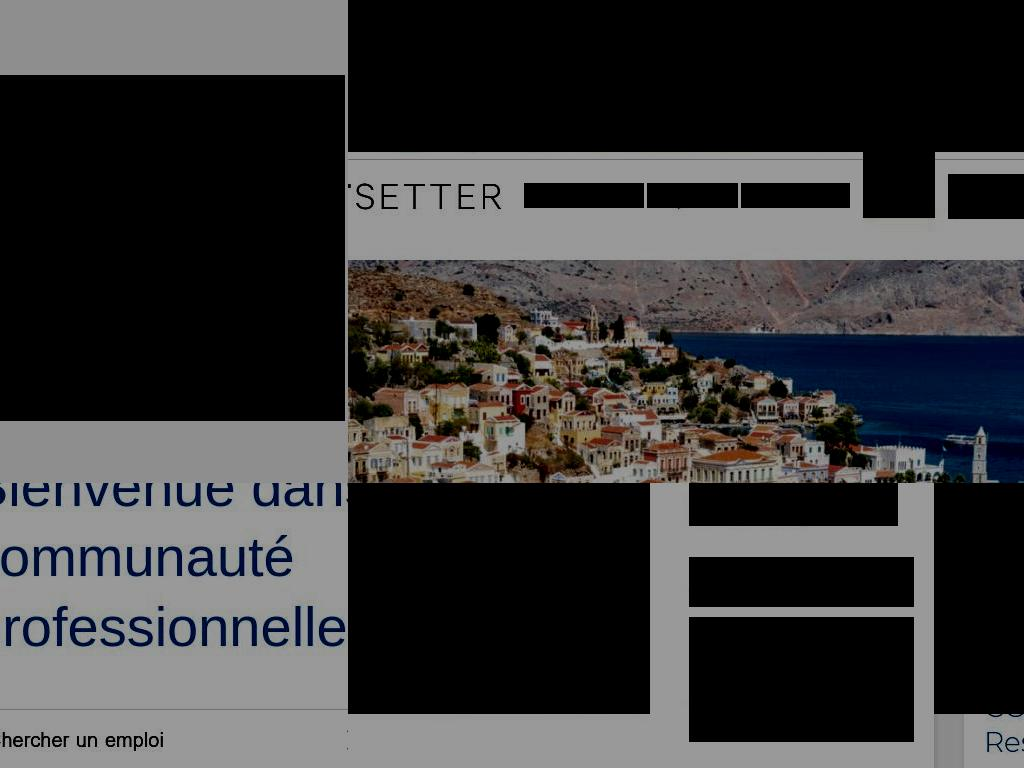button: (0, 710, 348, 768), (348, 169, 501, 224), (863, 146, 935, 218), (524, 183, 644, 208), (741, 183, 850, 208), (647, 183, 738, 208)
field: (578, 174, 778, 219), (817, 182, 1022, 211), (948, 174, 1024, 219)
heading: (0, 483, 348, 662)
iframe: (348, 0, 1024, 152)
image: (348, 260, 1024, 483), (0, 75, 345, 421), (348, 483, 650, 714), (934, 483, 1024, 714), (348, 169, 501, 224), (785, 184, 806, 209), (592, 188, 613, 208), (339, 728, 348, 752)
link: (689, 483, 898, 526), (983, 690, 1024, 760)
text: (689, 617, 914, 742), (689, 557, 914, 607), (0, 726, 164, 754)
